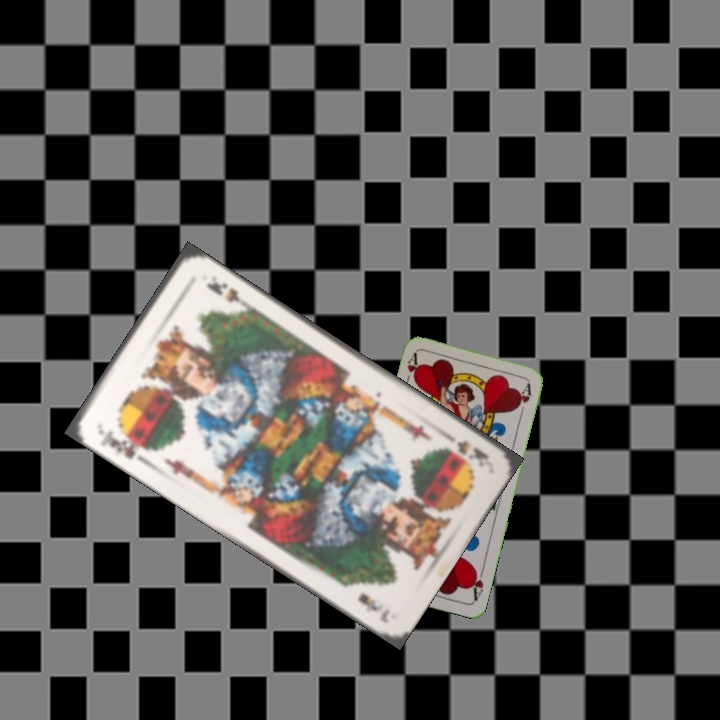HA: (466, 563, 487, 603), (401, 350, 420, 390)
SK: (94, 422, 152, 462), (452, 435, 492, 470)
